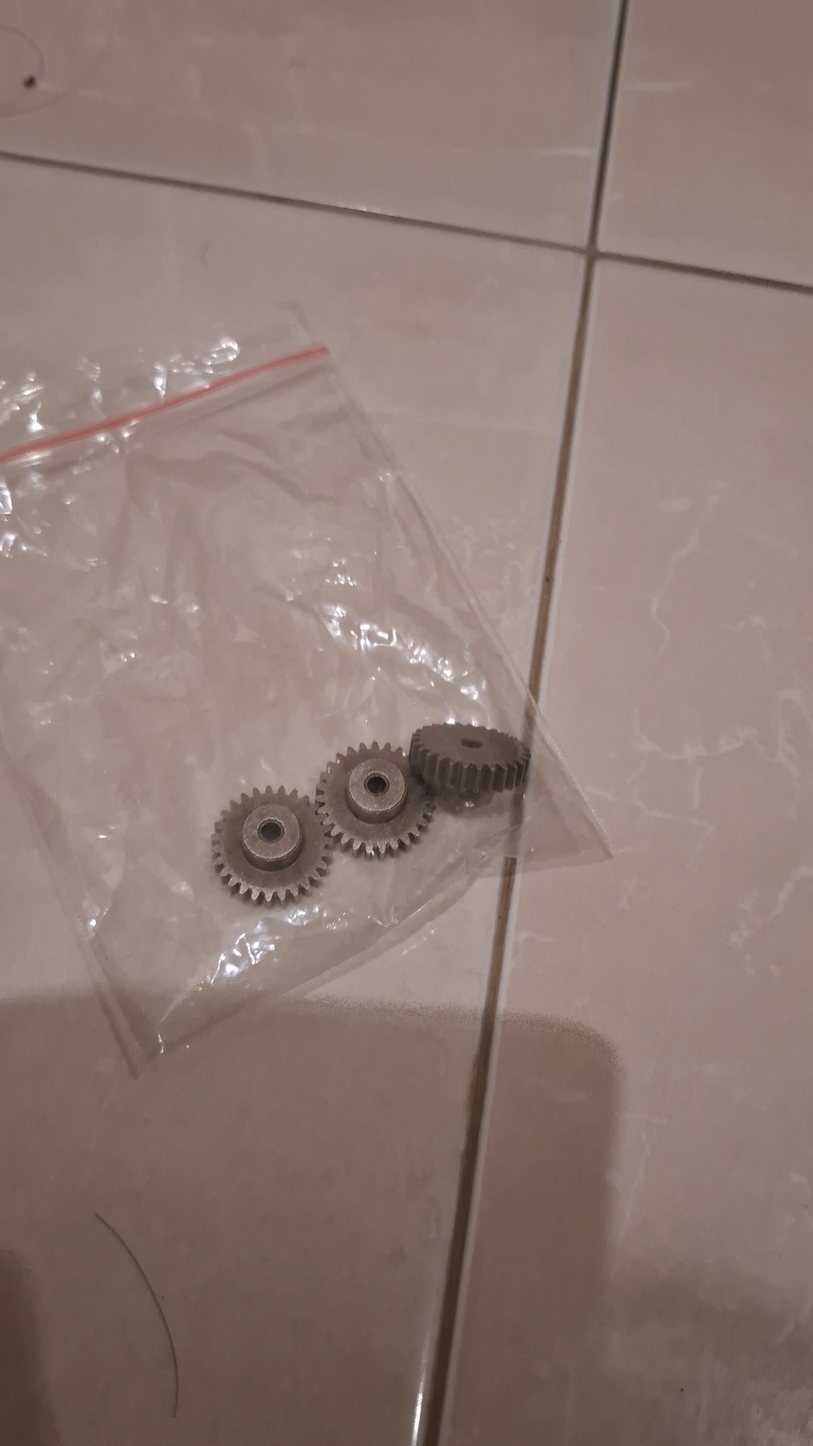spur gear: (210, 783, 333, 905), (314, 742, 433, 858), (406, 720, 534, 804)
